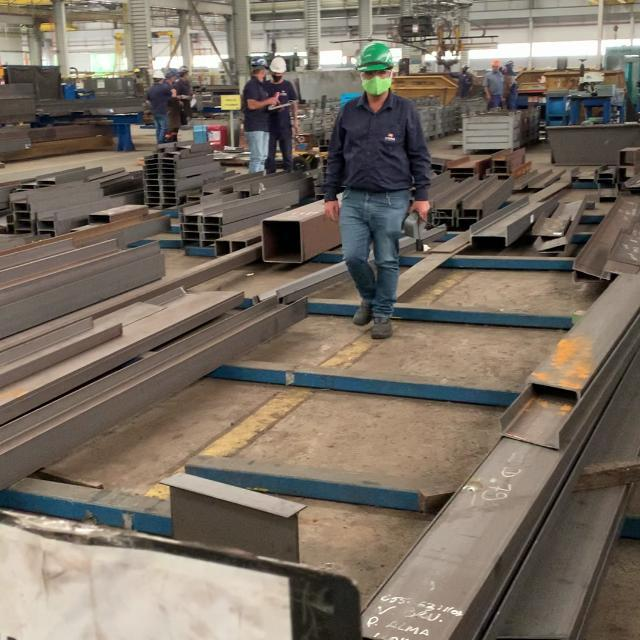eye-glass: (360, 68, 394, 78)
helmet: (355, 42, 395, 72)
mask: (359, 79, 391, 93)
person: (326, 42, 427, 337)
safety-shoe: (369, 315, 393, 340), (351, 301, 373, 324)
